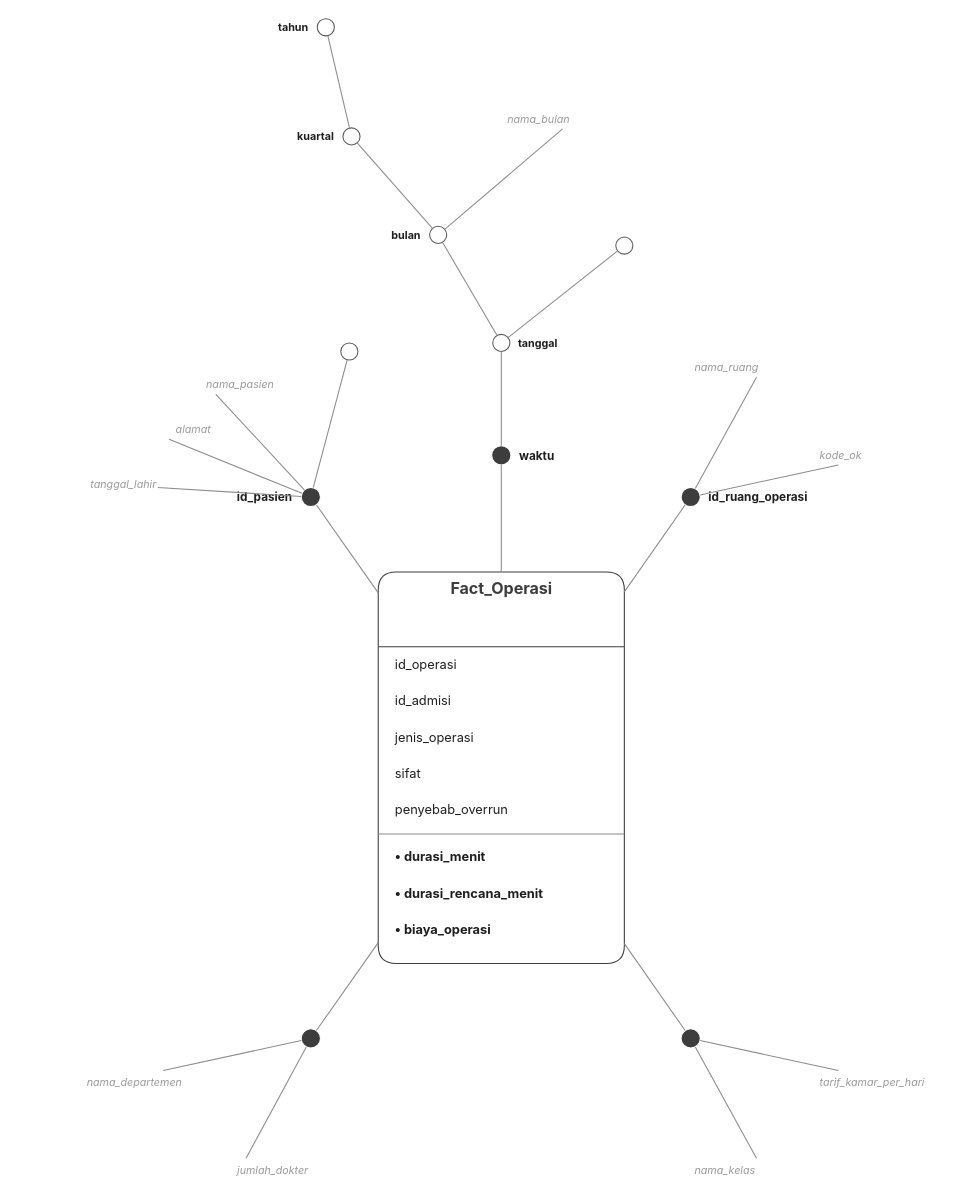
Image size: 975x1198. Some labels were removed from this diagram. The shapes that lost their labels are listed below. From the top down, each one's centre as x and y in pixels, then its label:
At pixel 624 245: "nama_hari".
At pixel 349 351: "jenis_kelamin".
At pixel 310 1038: "id_departemen".
At pixel 690 1038: "id_kelas".
